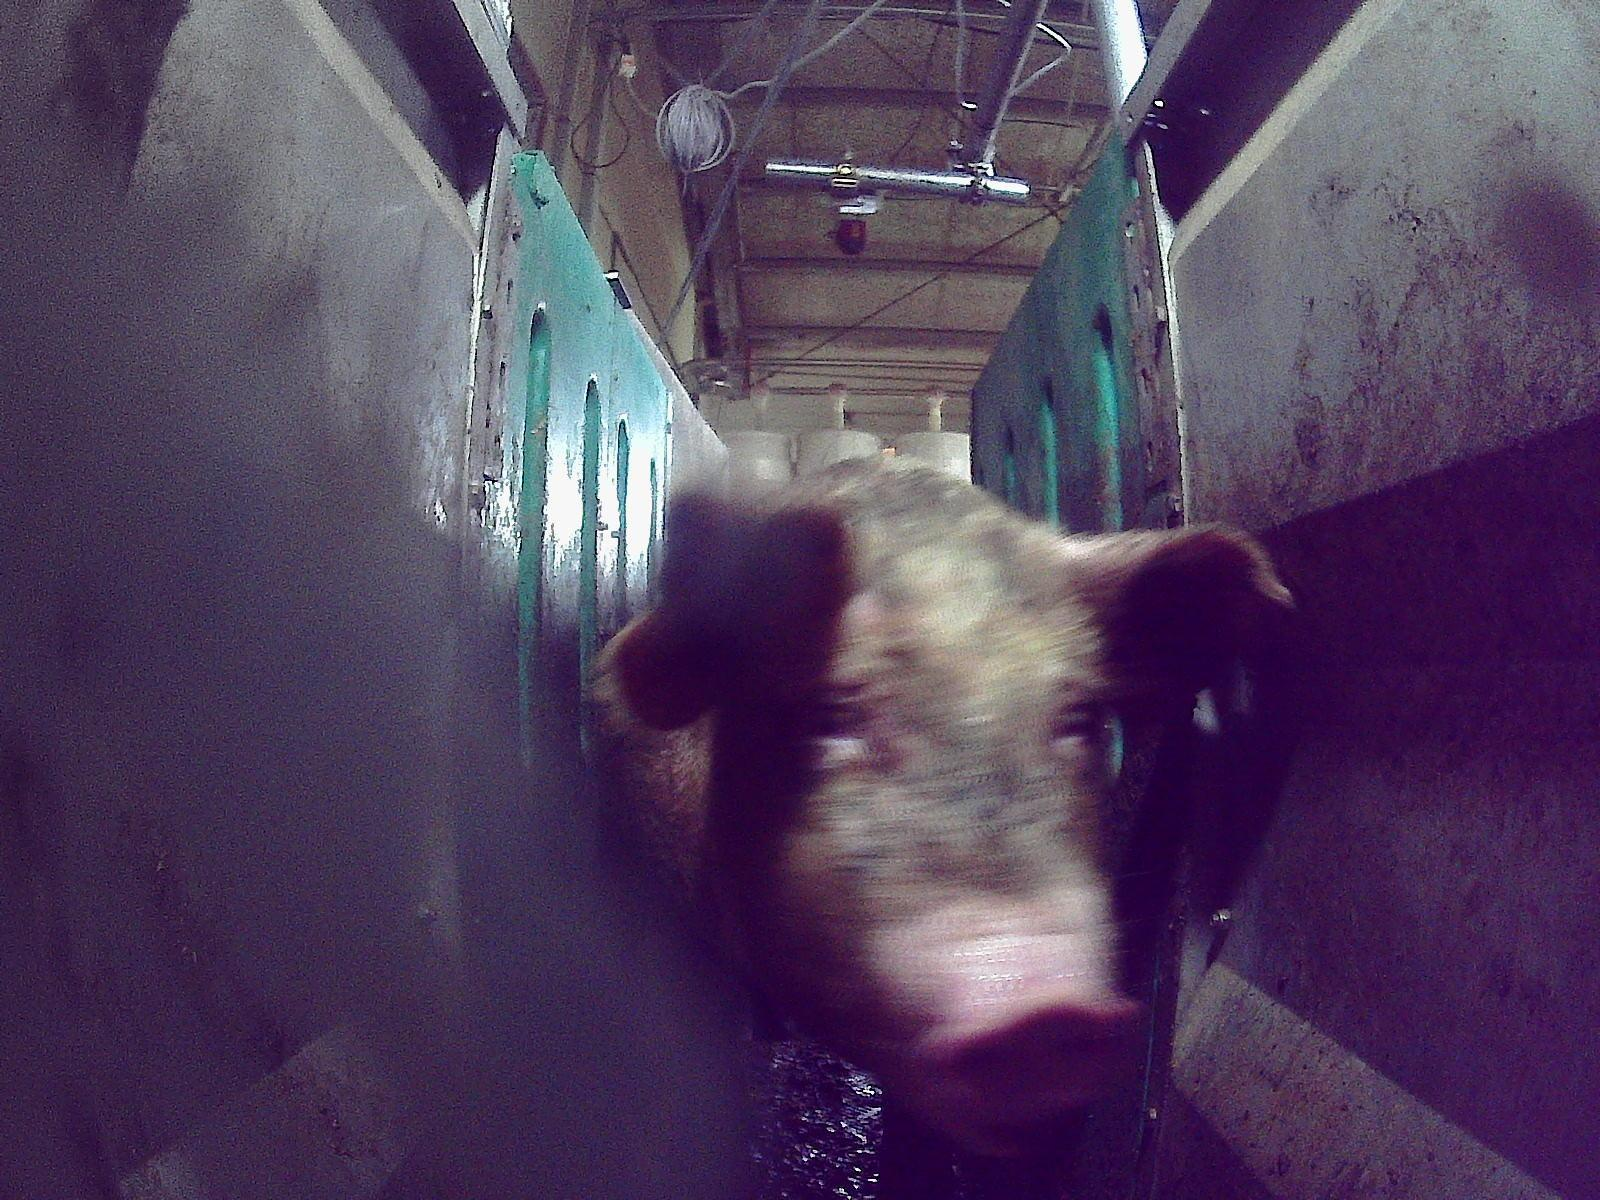Face: (731, 539, 1144, 1155)
